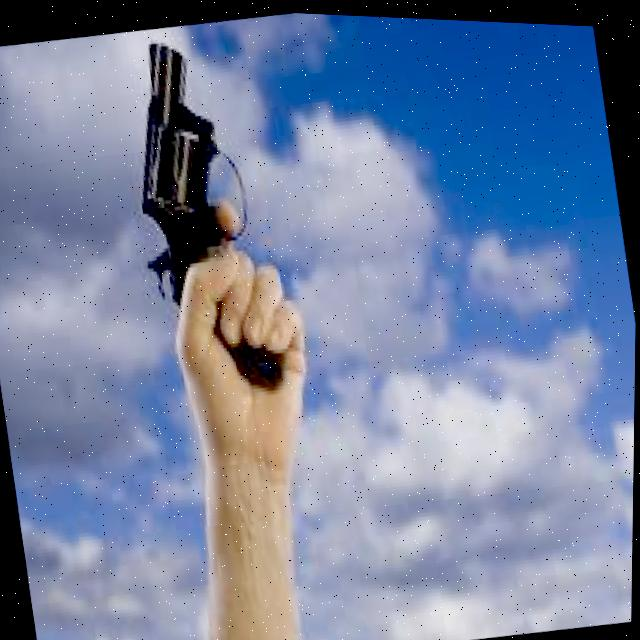pistol: (112, 23, 266, 318)
